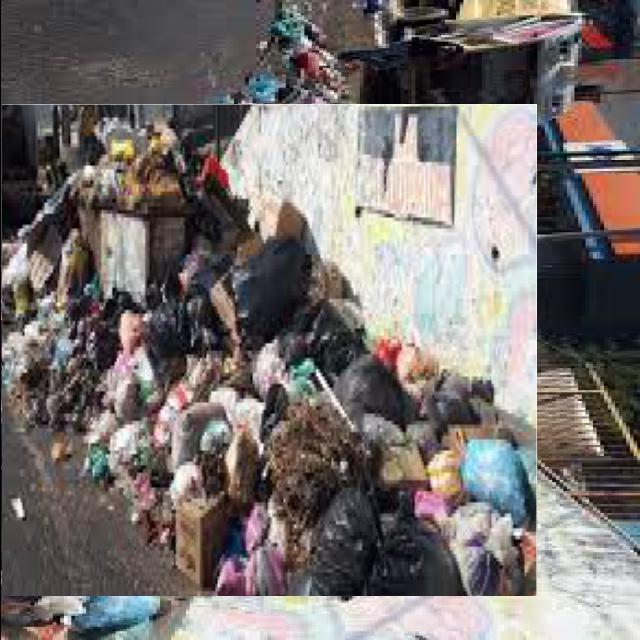Trashbag: (224, 236, 304, 320), (312, 502, 378, 582), (391, 516, 455, 593), (351, 357, 404, 429), (285, 313, 351, 370), (150, 290, 193, 354), (428, 372, 473, 429)
